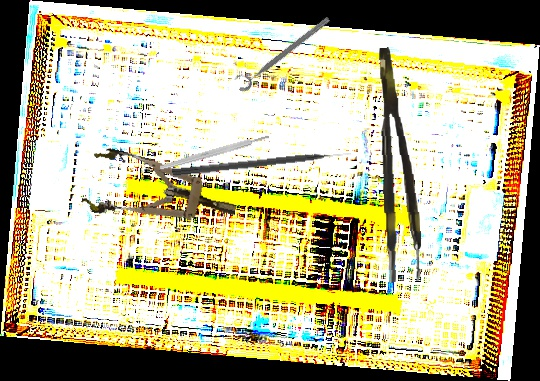Fixation Ring: (231, 8, 333, 95)
Pusher: (171, 149, 353, 179)
Scalpel Handle: (159, 133, 270, 172)
Speculum: (79, 144, 243, 244)
Tissue Forceps: (375, 46, 424, 283)
